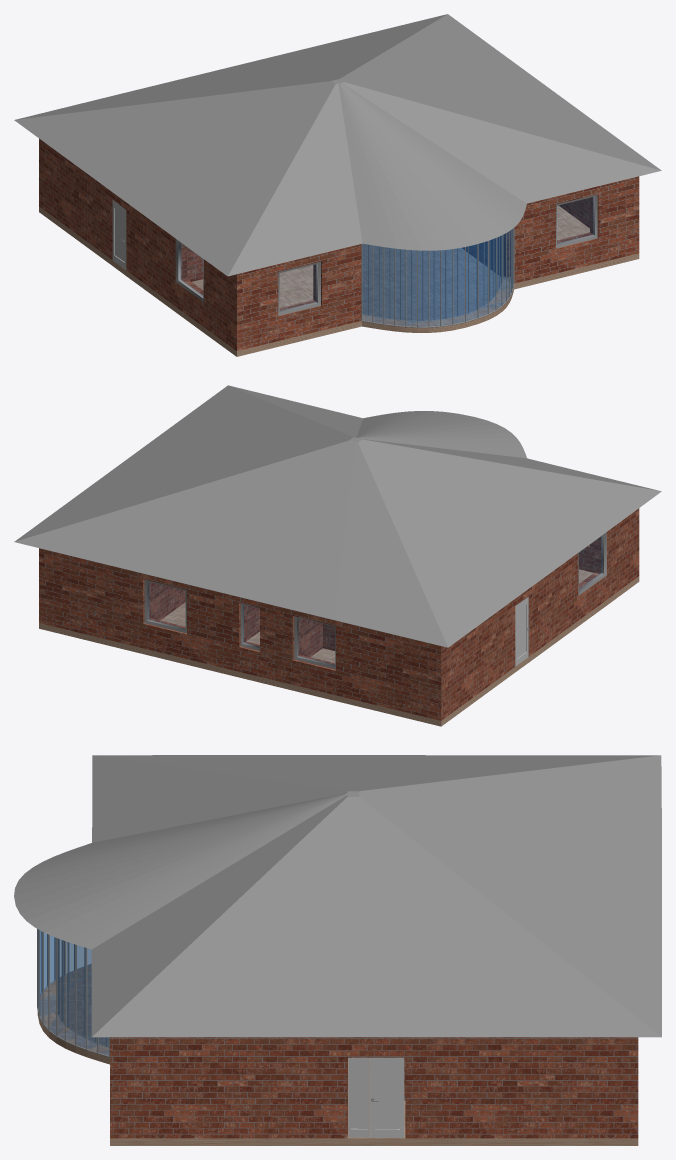
The model's file is дом 1.fbx.
The picture shows the model from 3 angles, top to bottom: view 1: azimuth 30°, elevation 25°; view 2: azimuth 150°, elevation 25°; view 3: azimuth 270°, elevation 25°; orthographic projection. The views are drawn at different scales.
Visible parts, largest first — view 1: Roof, Walls, Floor, BigWindow, Shape001, Glass001, Glass002, Door1, Glass, Window 002, Window 003, Window 1; view 2: Roof, Walls, Floor, Glass004, Glass003, Glass, Door1, Glass005, Window 004, Window 005; view 3: Roof, Walls, Floor, BigWindow, Shape001, Door021, Door022.
Boxes of the visible parts, x1,y1,x2,y2 form: Roof: (14,14,661,276); Walls: (39,138,639,350); Floor: (39,205,639,356); BigWindow: (362,229,512,326); Shape001: (361,227,514,327); Glass001: (280,264,316,310); Glass002: (557,197,593,243); Door1: (112,200,126,269); Glass: (180,243,202,295); Window 002: (278,261,320,315); Window 003: (556,194,597,248); Window 1: (175,239,203,302); Roof: (14,385,661,647); Walls: (39,508,639,720); Floor: (39,569,639,726); Glass004: (298,618,334,664); Glass003: (149,582,184,628); Glass: (579,537,601,589); Door1: (515,597,528,666); Glass005: (243,605,259,646); Window 004: (144,579,186,633); Window 005: (294,616,335,669); Roof: (14,755,661,1037); Walls: (110,1037,638,1138); Floor: (37,965,638,1145); BigWindow: (38,929,108,1055); Shape001: (37,929,109,1057); Door021: (370,1057,404,1137); Door022: (348,1057,370,1137).
Size of the model in its own units: 15775 by 5615 by 15309.
